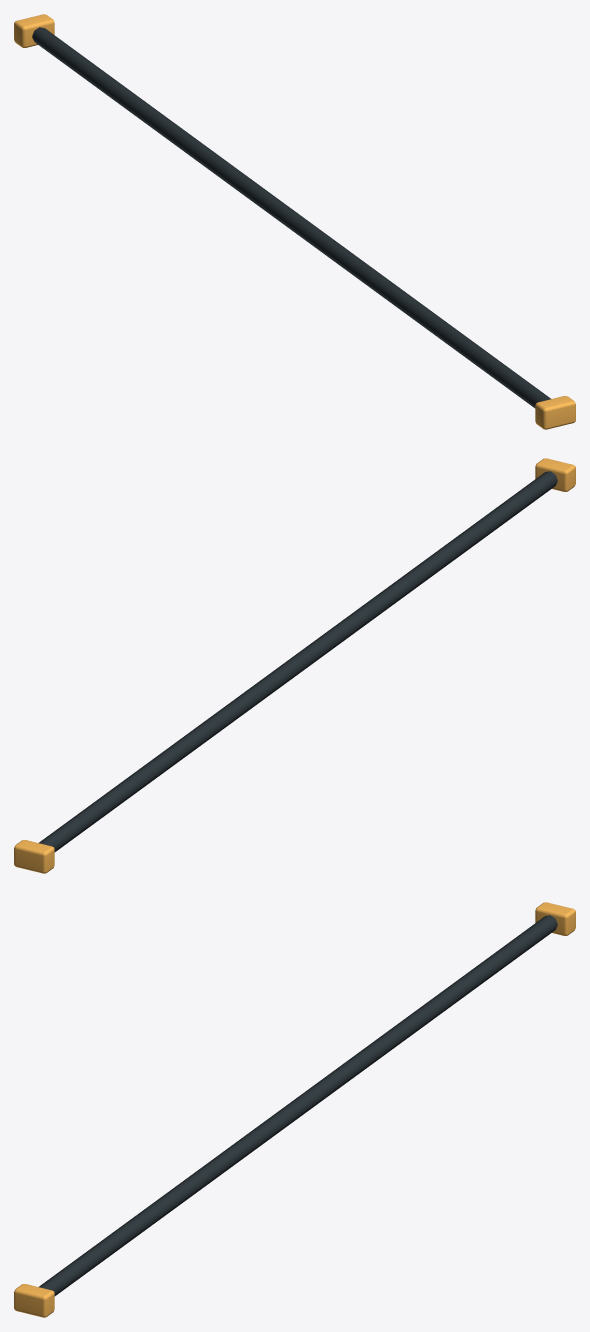
Rendered from SM_FE_CableStraight.fbx.
The picture shows the model from 3 angles, top to bottom: view 1: azimuth 30°, elevation 25°; view 2: azimuth 150°, elevation 25°; view 3: azimuth 330°, elevation 25°; orthographic projection.
Parts seen in each view (by area): view 1: SM_FE_CableStraight; view 2: SM_FE_CableStraight; view 3: SM_FE_CableStraight.
Part boxes in pixels (<box>): SM_FE_CableStraight: <box>14,14,575,429</box>; SM_FE_CableStraight: <box>14,458,575,873</box>; SM_FE_CableStraight: <box>14,902,575,1317</box>.
Bounding box in the file's own units: 11 × 306 × 7.
